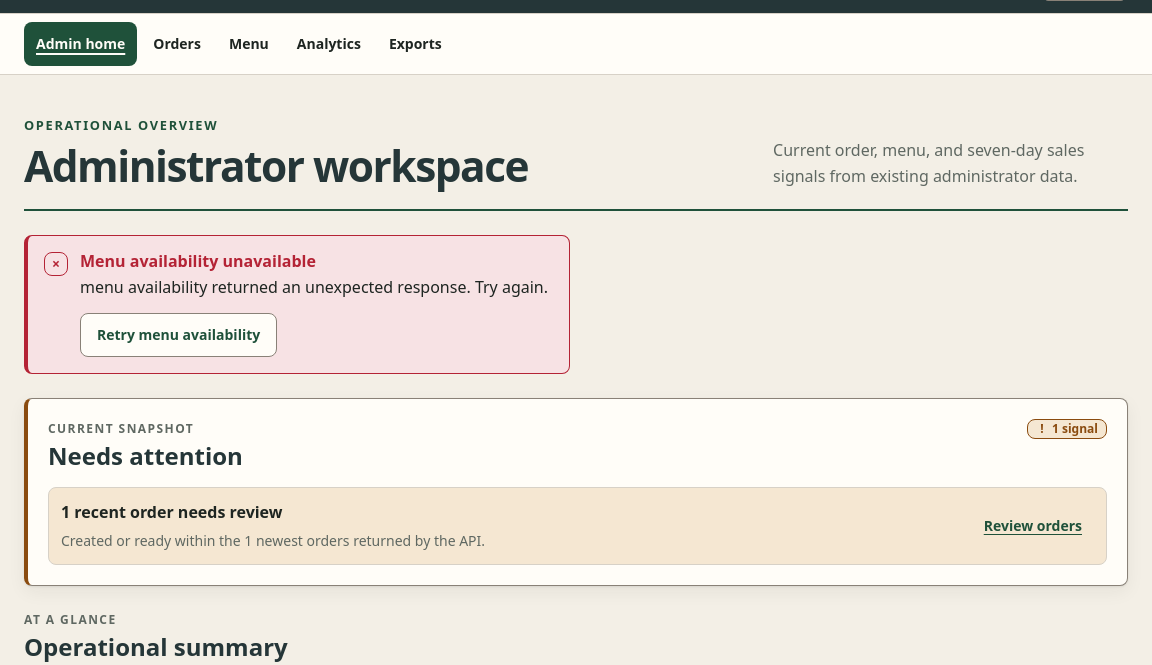
Test: administrator home dashboard › keeps successful sections visible and retries only a failed menu snapshot
The image size is (1152, 665).
Expected: the text "Menu availability unavailable" is shown, x1=80 y1=250 x2=316 y2=272
Step 1. Click the button "Retry menu availability" → (179, 335), box x1=80 y1=313 x2=277 y2=357
(page scrolled)
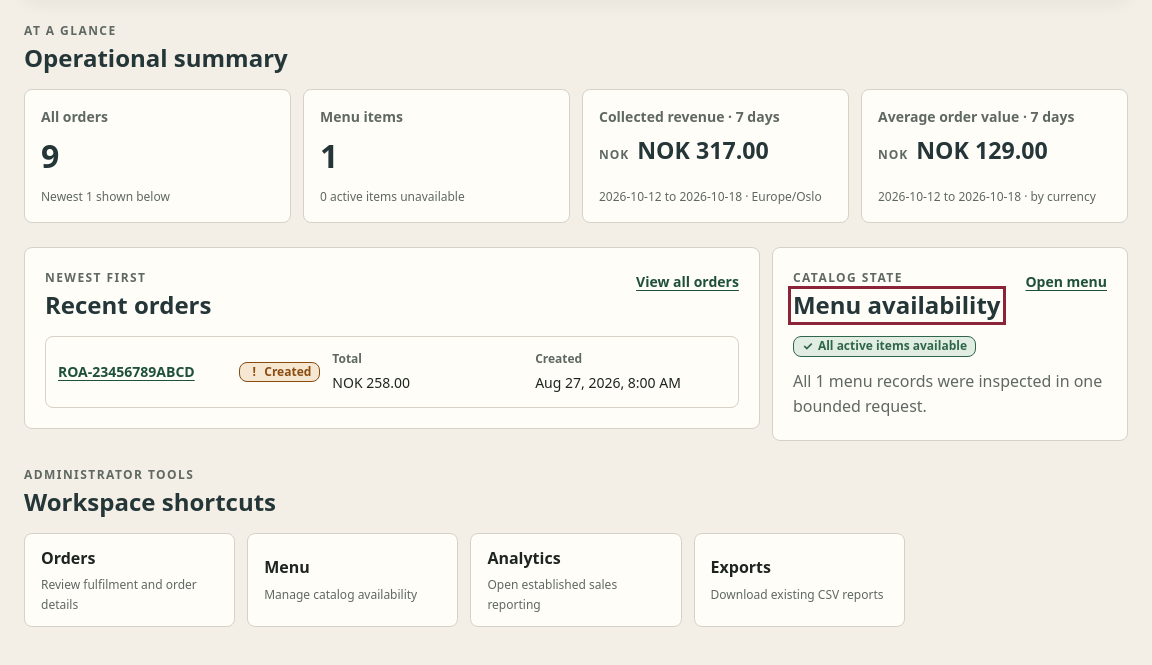
Expected: the text "All active items available" is shown, x1=818 y1=339 x2=967 y2=354
Expected: the text "Menu availability unavailable" is gone
